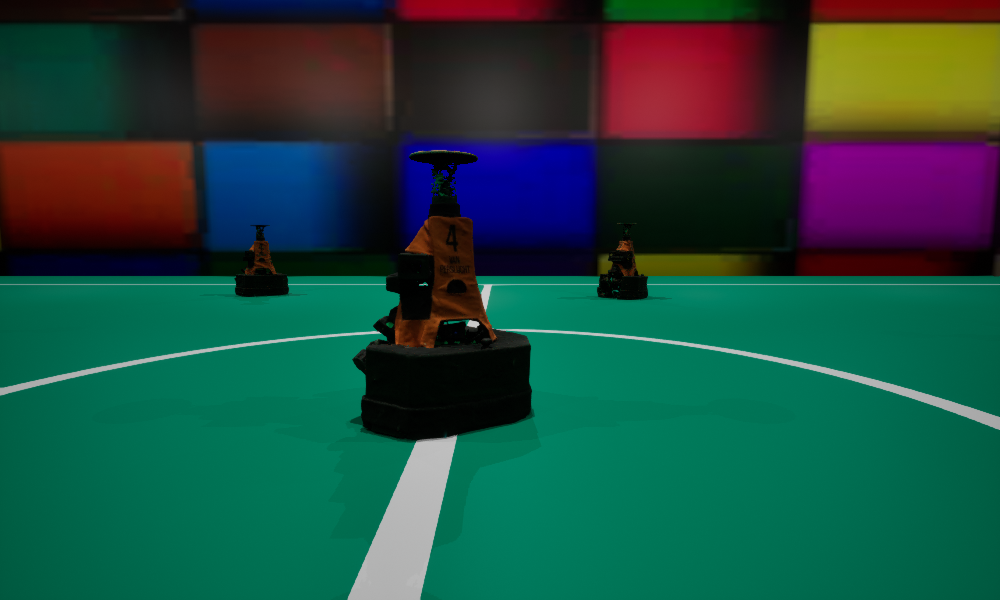0 orange robot TechUnited: (352, 150, 531, 439), (234, 225, 288, 295), (597, 223, 647, 298)
